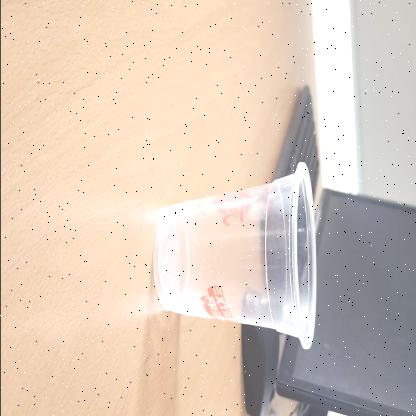Others: (152, 161, 318, 349)
